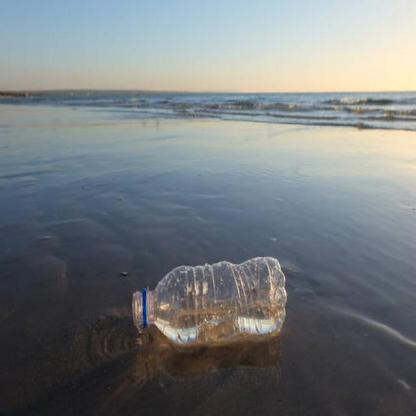plastic bottle: (131, 257, 286, 343)
